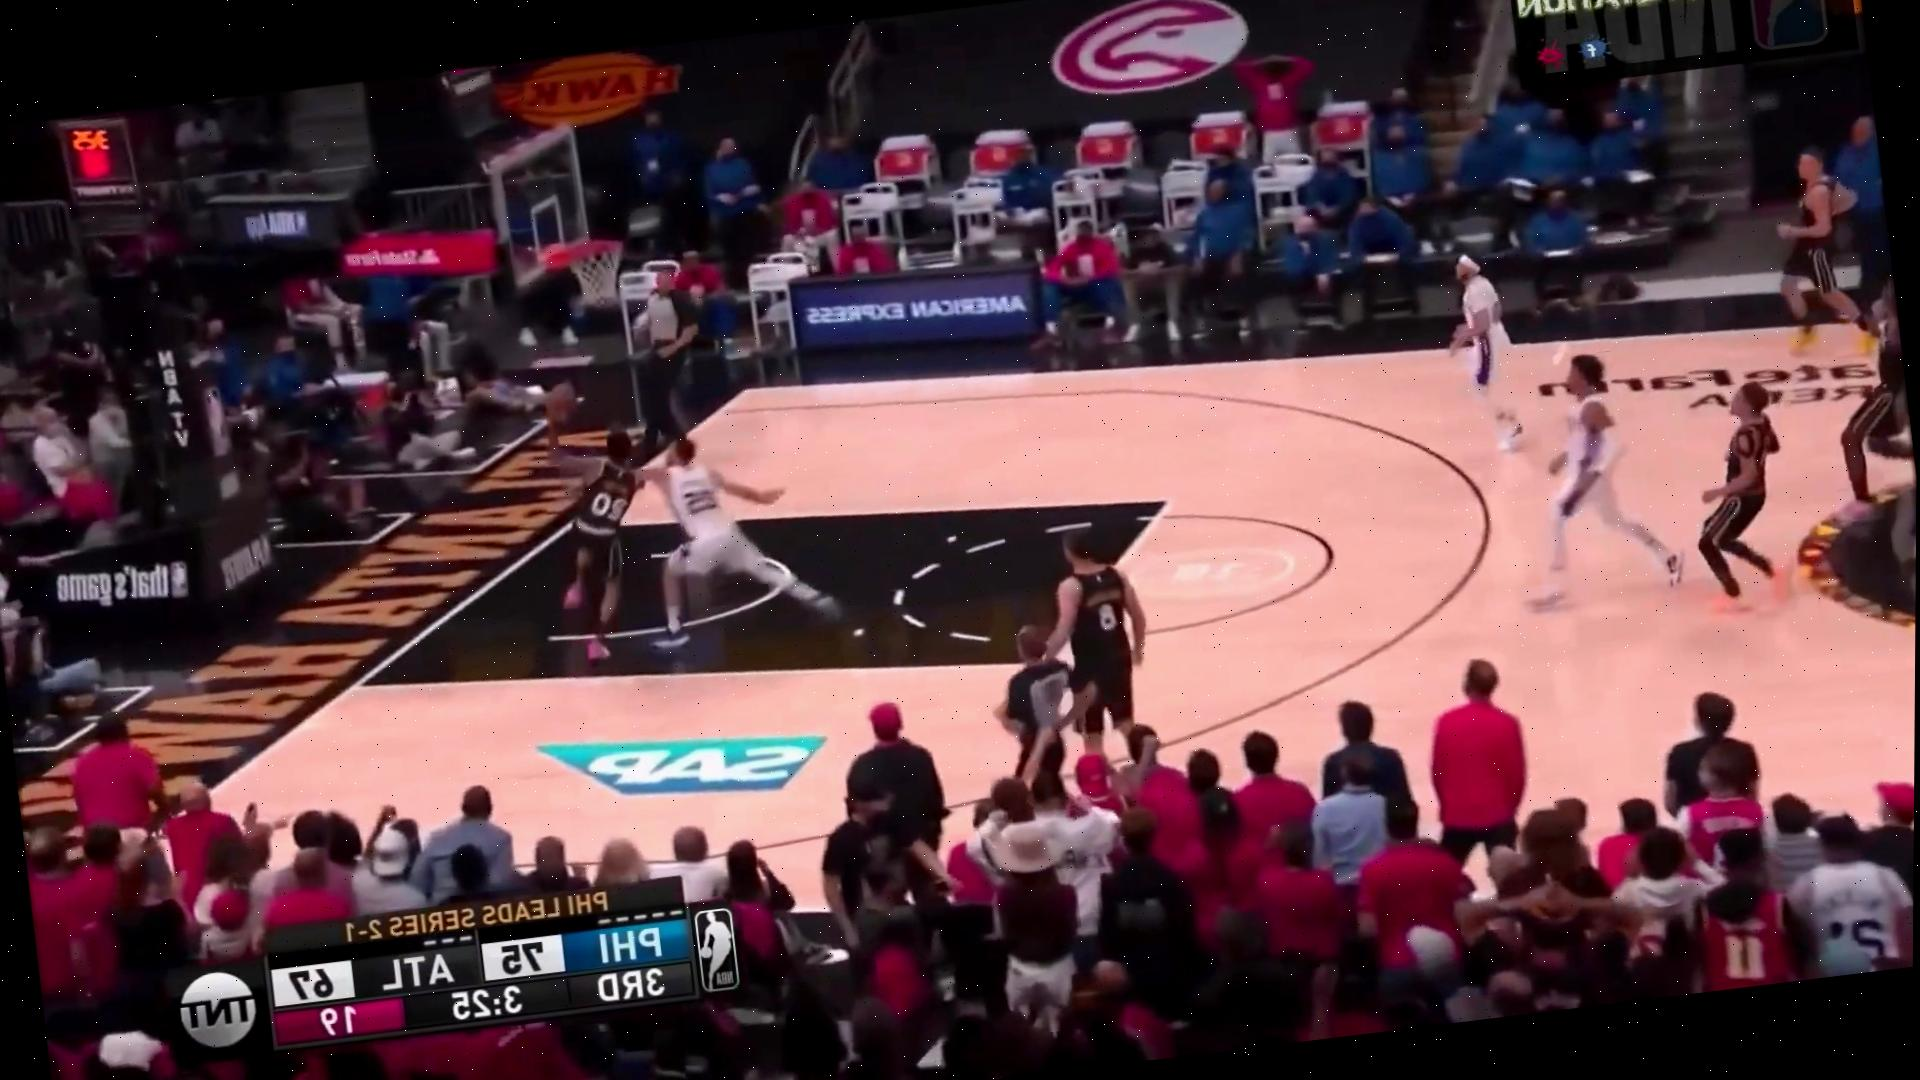no_foul: (530, 397, 835, 681)
